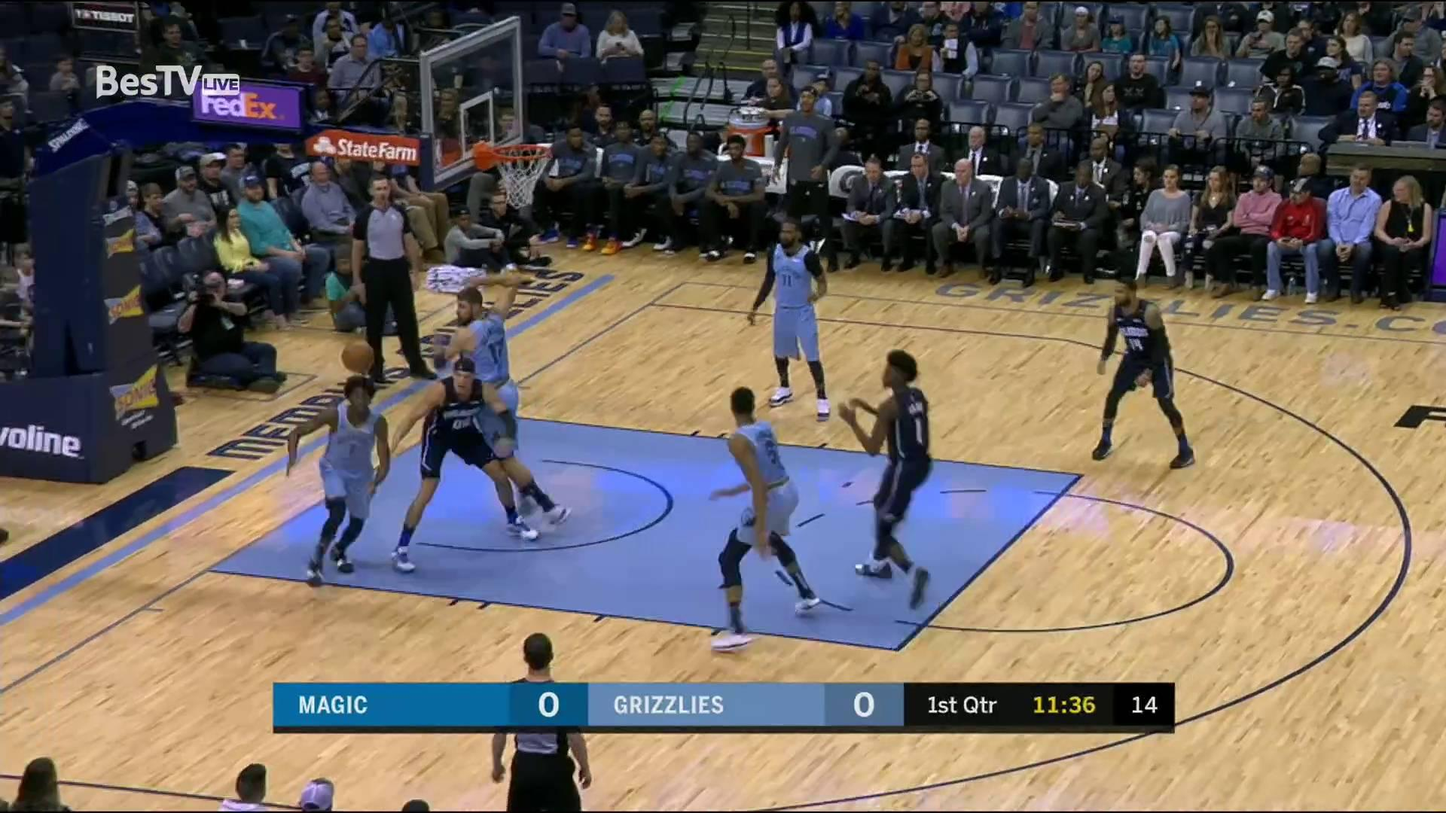basketball: (340, 337, 375, 373)
